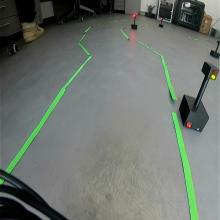green: (200, 61, 220, 82)
